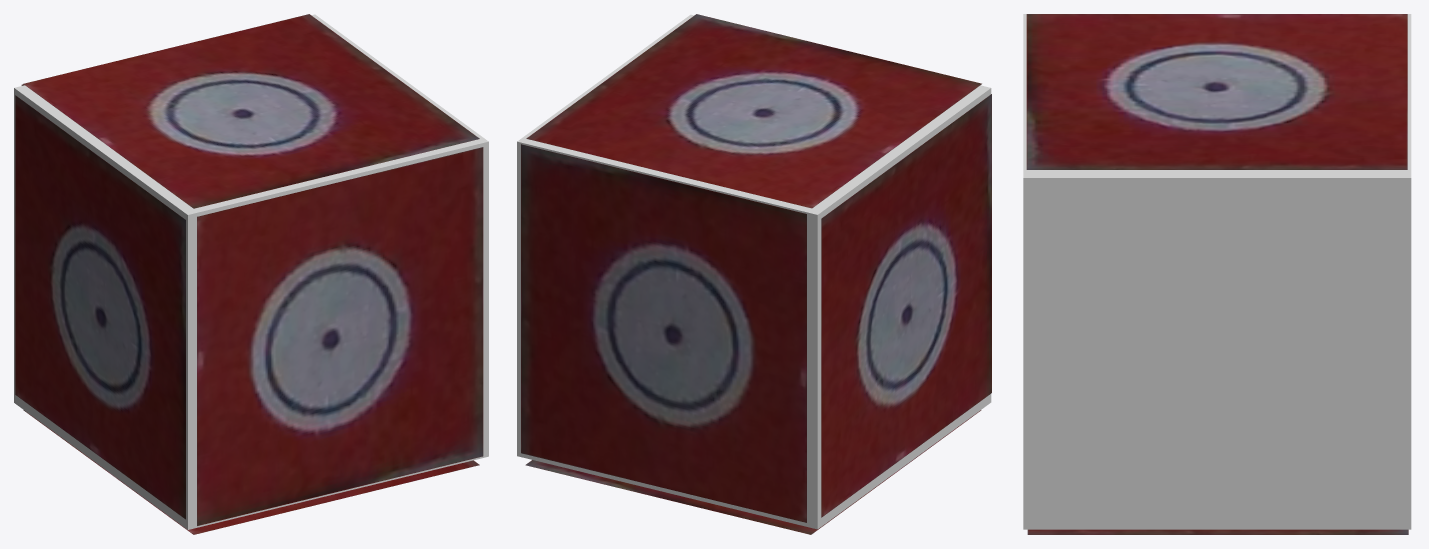
3 views of the same model, side by side, from view 1: azimuth 30°, elevation 25°; view 2: azimuth 150°, elevation 25°; view 3: azimuth 270°, elevation 25° (orthographic). The views are drawn at different scales.
Parts seen in each view (by area): view 1: fake2.png.005, fake2.png.001, fake2.png.003, Link35, fake2.png.004; view 2: fake2.png.002, fake2.png.001, fake2.png.003, Link35, fake2.png.004; view 3: Link35, fake2.png.003, fake2.png.004.
Boxes of the visible parts, x1,y1,x2,y2 form: fake2.png.005: (197,147,483,525); fake2.png.001: (15,95,185,519); fake2.png.003: (23,14,479,208); Link35: (14,14,488,529); fake2.png.004: (23,410,479,534); fake2.png.002: (521,144,806,522); fake2.png.001: (821,94,991,517); fake2.png.003: (526,14,981,208); Link35: (517,14,991,529); fake2.png.004: (525,410,981,534); Link35: (1023,14,1411,529); fake2.png.003: (1026,14,1407,169); fake2.png.004: (1027,529,1408,534).
Bounding box in the file's own units: 0.3515 × 0.3561 × 0.3629.
1 material, 1 textured.
